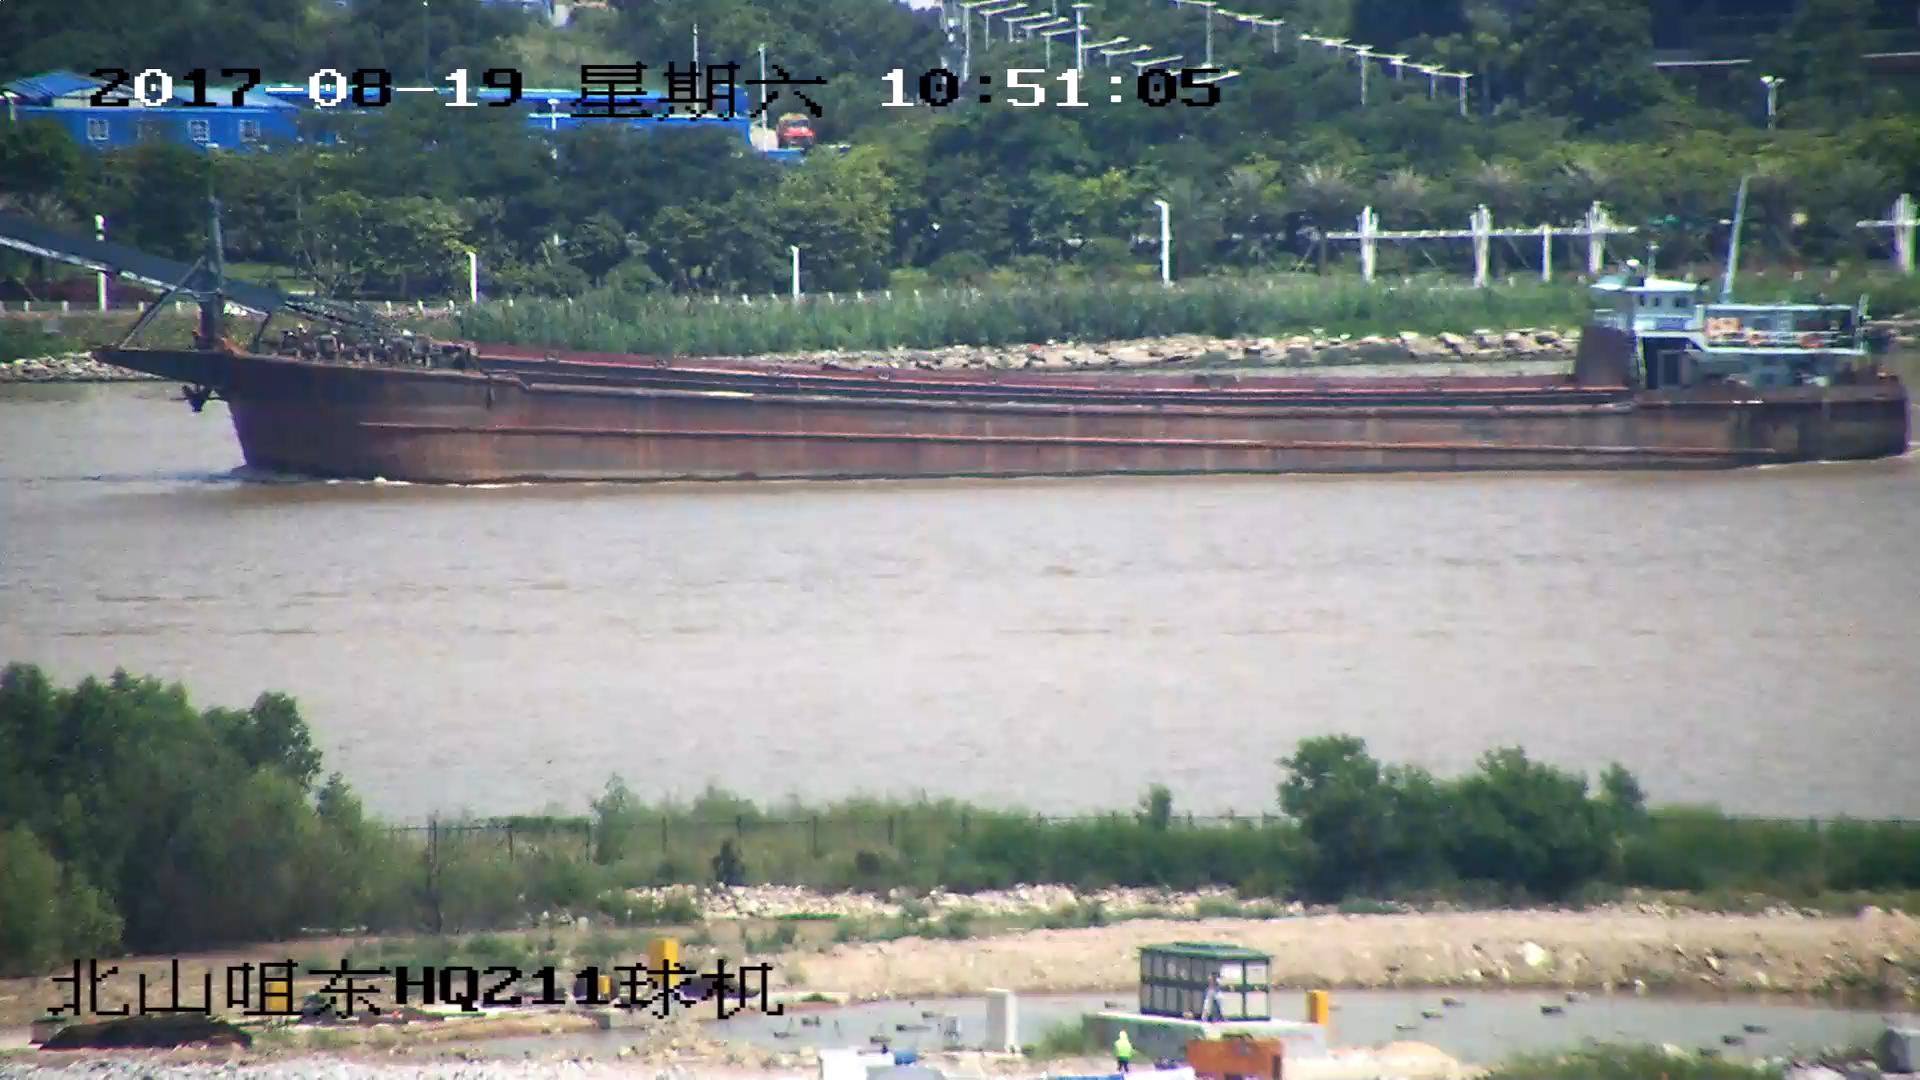bulk cargo carrier: (1, 212, 1905, 485)
